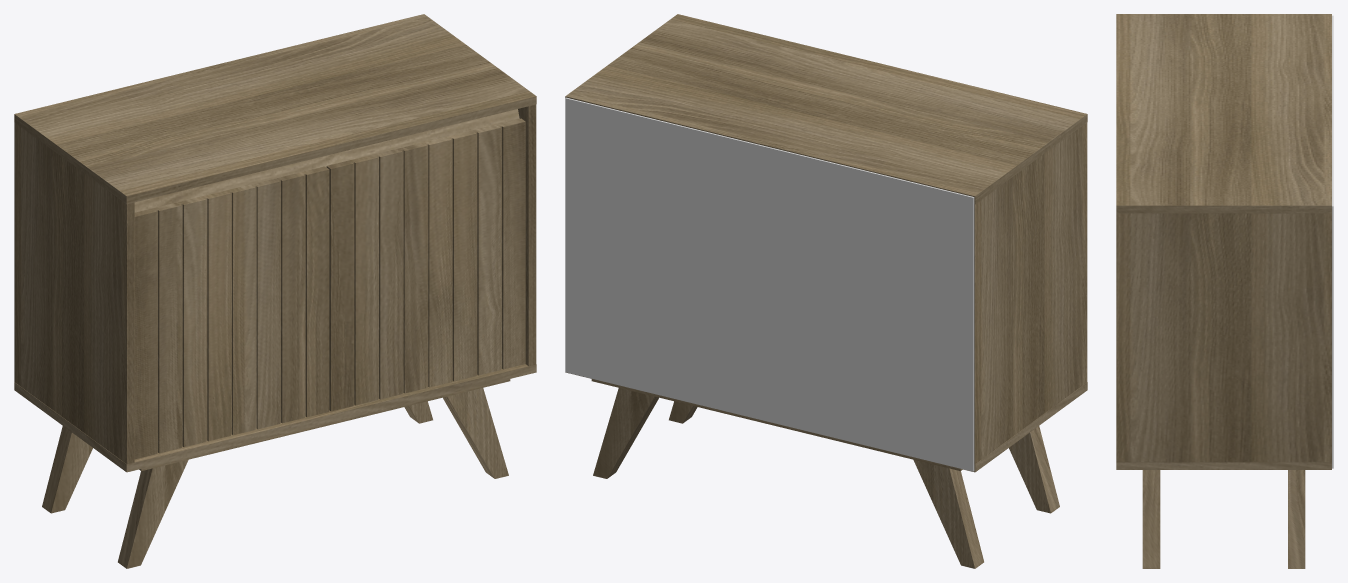
3 renders of one model, left to right at view 1: azimuth 30°, elevation 25°; view 2: azimuth 150°, elevation 25°; view 3: azimuth 270°, elevation 25°, orthographic. The views are drawn at different scales.
Visible parts, largest first — view 1: A760250-TAPASXXXTA, A760250-PUERTASXPT001, A760250-PUERTASXPT, A760250-COSTADOSCO, A760250-PISOSXXXPI, A760250-FAJASXXXFR, Pata 191, Simetruc801760250-COSTADOSCOST, Pata 200, Pata 194, A760250-PATASXXXBA; view 2: A760250-FONDOSXXMU, A760250-FONDOSXXMU001, A760250-TAPASXXXTA, A760250-COSTADOSCO, Pata 194, Pata 197, Pata 191, A760250-PISOSXXXPI, A760250-PATASXXXBA; view 3: Simetruc801760250-COSTADOSCOST, A760250-TAPASXXXTA, Pata 200, Pata 197, A760250-PISOSXXXPI, A760250-FONDOSXXMU001.
Part boxes in pixels (left/top/right/bottom): A760250-TAPASXXXTA: left=14, top=14, right=536, bottom=204; A760250-PUERTASXPT001: left=326, top=118, right=525, bottom=411; A760250-PUERTASXPT: left=134, top=166, right=329, bottom=459; A760250-COSTADOSCO: left=14, top=122, right=134, bottom=464; A760250-PISOSXXXPI: left=14, top=364, right=536, bottom=472; A760250-FAJASXXXFR: left=134, top=109, right=519, bottom=212; Pata 191: left=118, top=459, right=188, bottom=568; Simetruc801760250-COSTADOSCOST: left=518, top=104, right=536, bottom=366; Pata 200: left=443, top=388, right=508, bottom=478; Pata 194: left=42, top=426, right=92, bottom=513; A760250-PATASXXXBA: left=139, top=379, right=510, bottom=470; A760250-FONDOSXXMU: left=769, top=147, right=974, bottom=471; A760250-FONDOSXXMU001: left=565, top=97, right=769, bottom=421; A760250-TAPASXXXTA: left=565, top=14, right=1087, bottom=204; A760250-COSTADOSCO: left=974, top=122, right=1087, bottom=464; Pata 194: left=913, top=459, right=983, bottom=568; Pata 197: left=593, top=388, right=658, bottom=478; Pata 191: left=1009, top=426, right=1059, bottom=513; A760250-PISOSXXXPI: left=565, top=372, right=1087, bottom=472; A760250-PATASXXXBA: left=591, top=379, right=962, bottom=470; Simetruc801760250-COSTADOSCOST: left=1116, top=213, right=1331, bottom=462; A760250-TAPASXXXTA: left=1116, top=14, right=1331, bottom=213; Pata 200: left=1142, top=470, right=1160, bottom=568; Pata 197: left=1288, top=470, right=1305, bottom=568; A760250-PISOSXXXPI: left=1116, top=462, right=1331, bottom=469; A760250-FONDOSXXMU001: left=1332, top=111, right=1333, bottom=468.
Bounding box in the file's own units: 0.8 × 0.72 × 0.383.
Materials: 1 (1 with a texture image).
